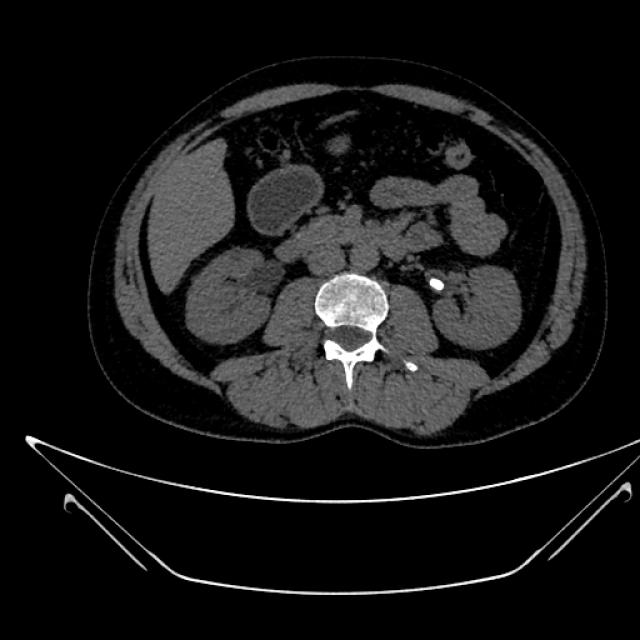kidneystone: (427, 271, 444, 292)
